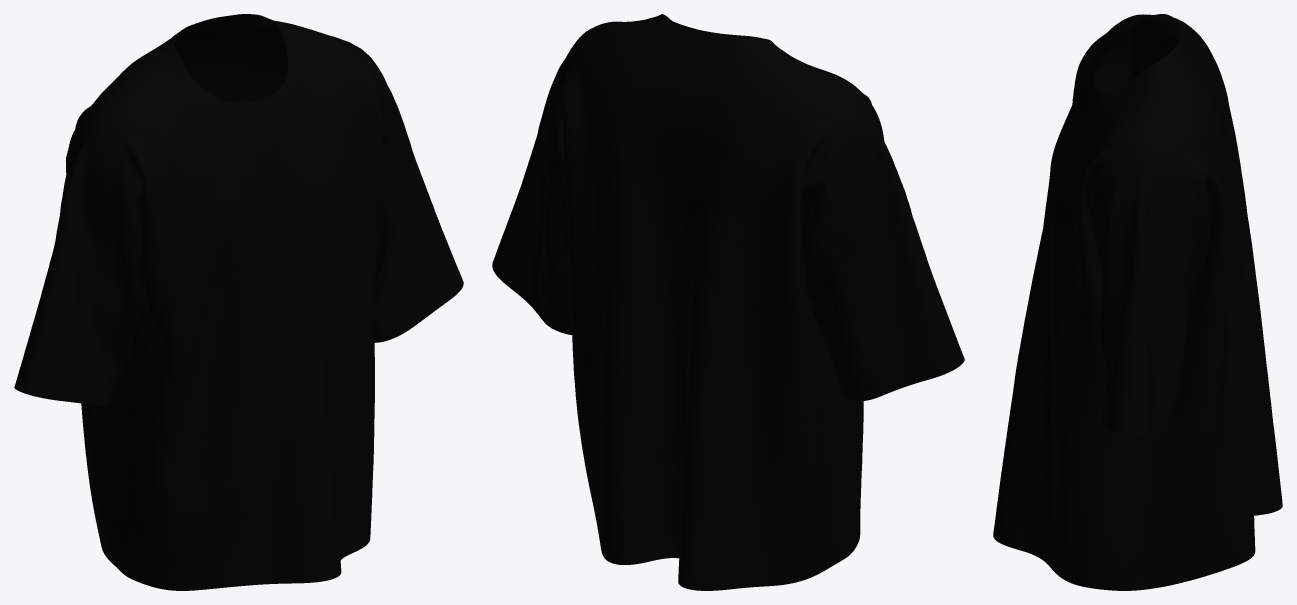
File: 3dmodel.gltf
3 views of the same model, side by side, from view 1: azimuth 30°, elevation 25°; view 2: azimuth 150°, elevation 25°; view 3: azimuth 270°, elevation 25° (orthographic). The views are drawn at different scales.
Visible parts, largest first — view 1: 3Dmodelexport; view 2: 3Dmodelexport; view 3: 3Dmodelexport.
Boxes of the visible parts, left/top/right/bottom form: 3Dmodelexport: left=14, top=14, right=463, bottom=590; 3Dmodelexport: left=492, top=14, right=964, bottom=590; 3Dmodelexport: left=993, top=14, right=1282, bottom=590.
Size of the model in its own units: 7.08 by 7.69 by 4.01.
Materials: 1 (1 with a texture image).
